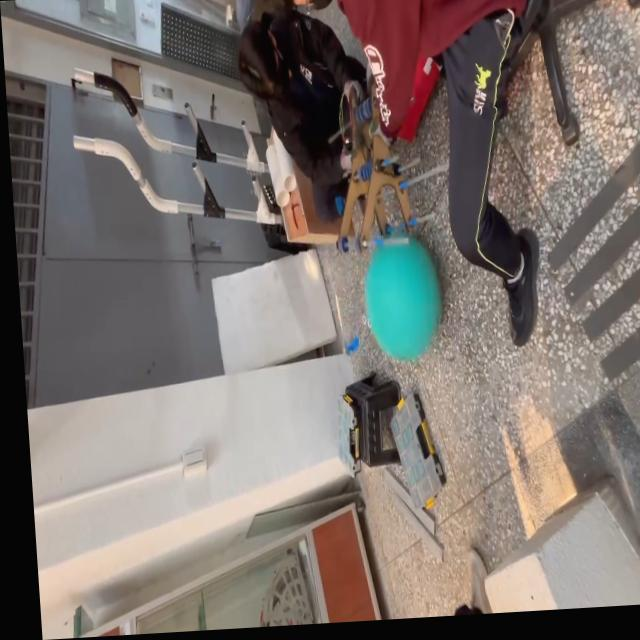ALGAE: (360, 231, 447, 366)
